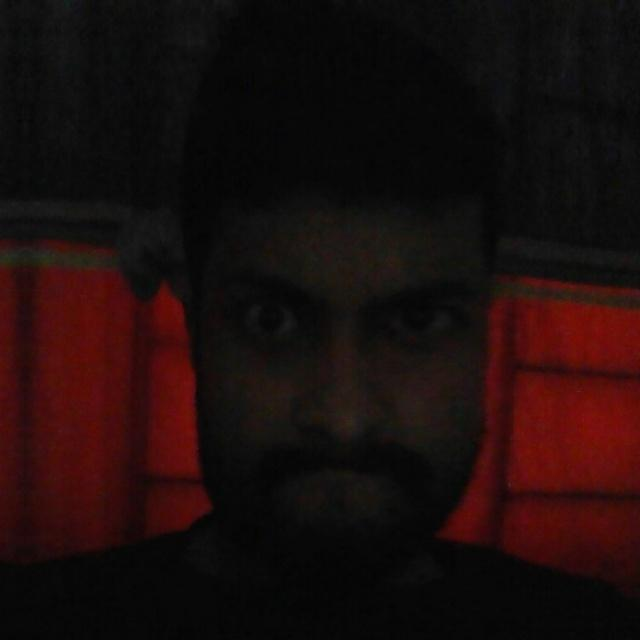Angry: (140, 102, 534, 570)
